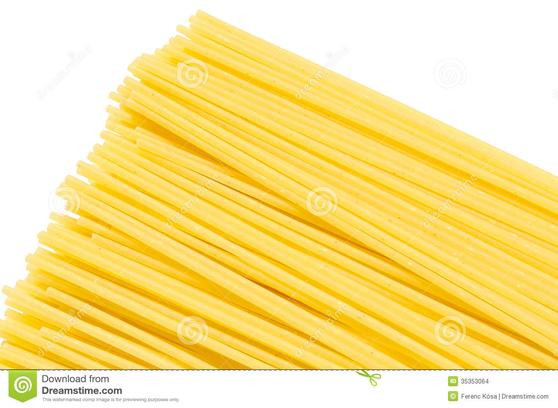spaghetti: (8, 13, 545, 358)
